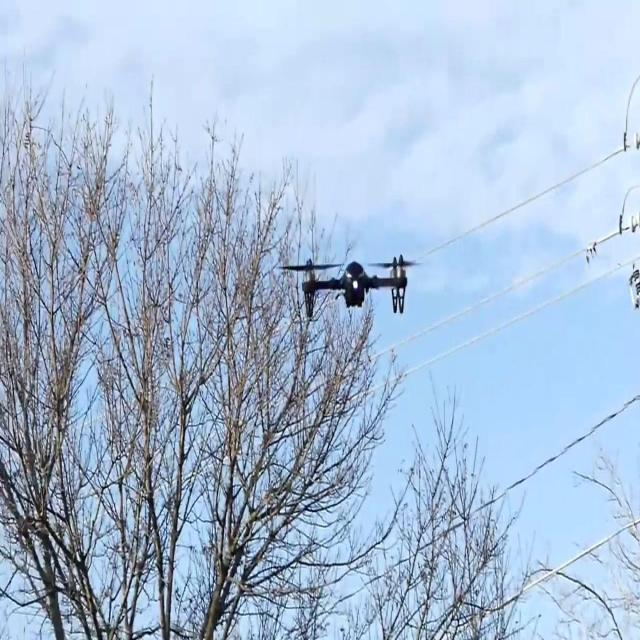drone: (279, 253, 420, 321)
